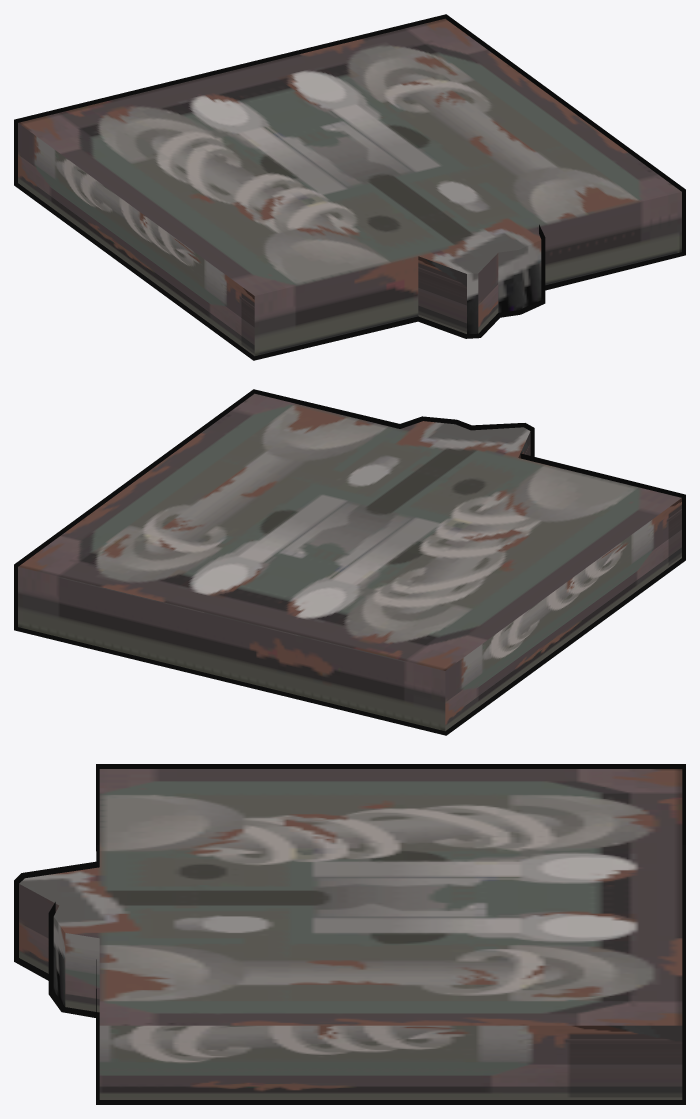
Rendered from Building_AncientStandardRecharger_Things_Building_Ruins_AncientStandardRecharger.glb.
3 renders of one model, top to bottom at view 1: azimuth 30°, elevation 25°; view 2: azimuth 150°, elevation 25°; view 3: azimuth 270°, elevation 25°, orthographic. The views are drawn at different scales.
Visible parts, largest first — view 1: Body, Outline; view 2: Body, Outline; view 3: Body, Outline.
Part boxes in pixels (x1=…): Body: x1=18, y1=18, x2=681, y2=356; Outline: x1=14, y1=14, x2=685, y2=360; Body: x1=18, y1=393, x2=681, y2=731; Outline: x1=14, y1=389, x2=685, y2=735; Body: x1=19, y1=769, x2=682, y2=1099; Outline: x1=14, y1=764, x2=685, y2=1104.
Bounding box in the file's own units: 1.49 × 0.225 × 1.63.
2 materials, 1 textured.
